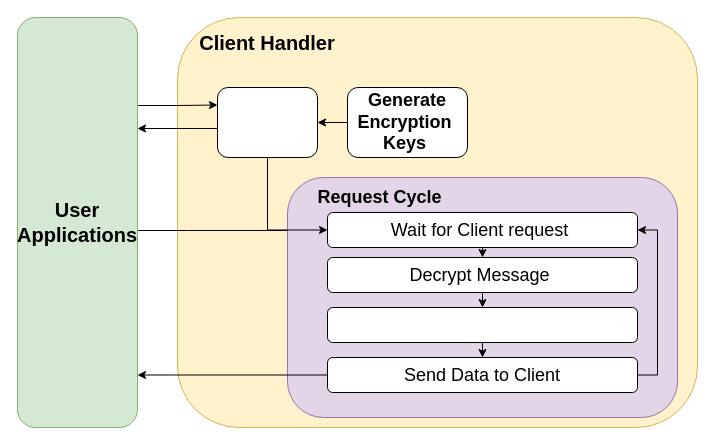
Some shapes in this 715 by 445 pixel diagram are drawn without their labels. The shapes that lost their labels are listed below. From the top down, each one's box as (x1, y1, x2, y2) in pixels, then its label:
(216, 86, 318, 158): Perform Key Exchange
(326, 306, 638, 342): Access Database for request
